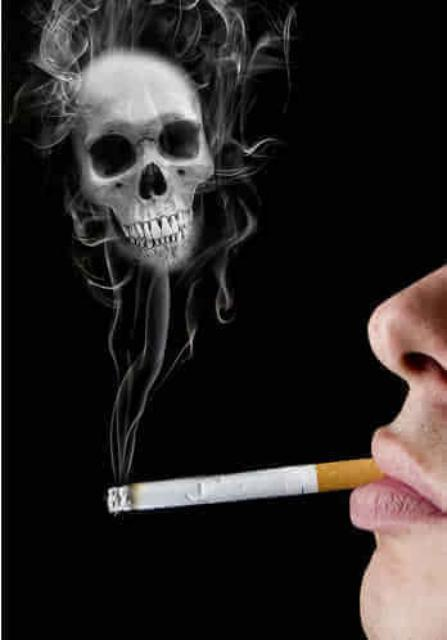Smoking: (107, 460, 382, 514)
